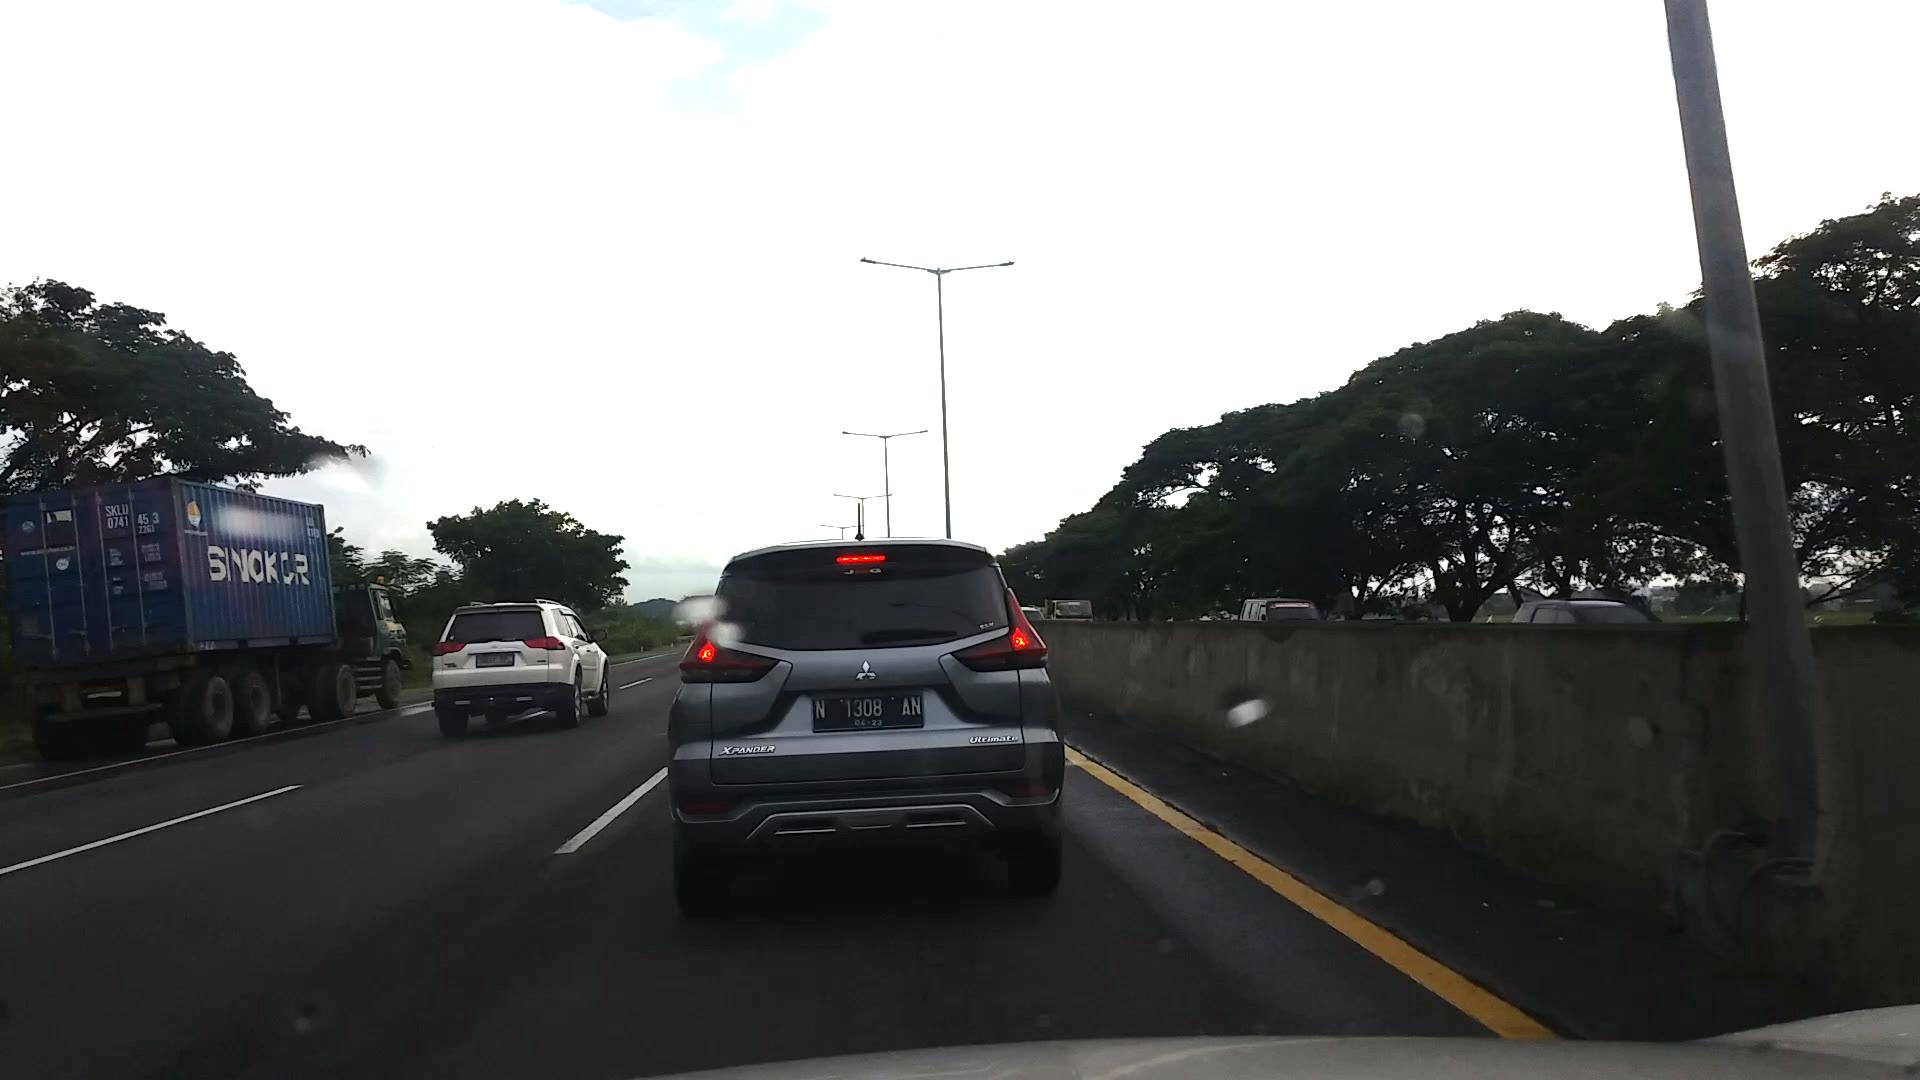plate_positive: (814, 694, 924, 731)
